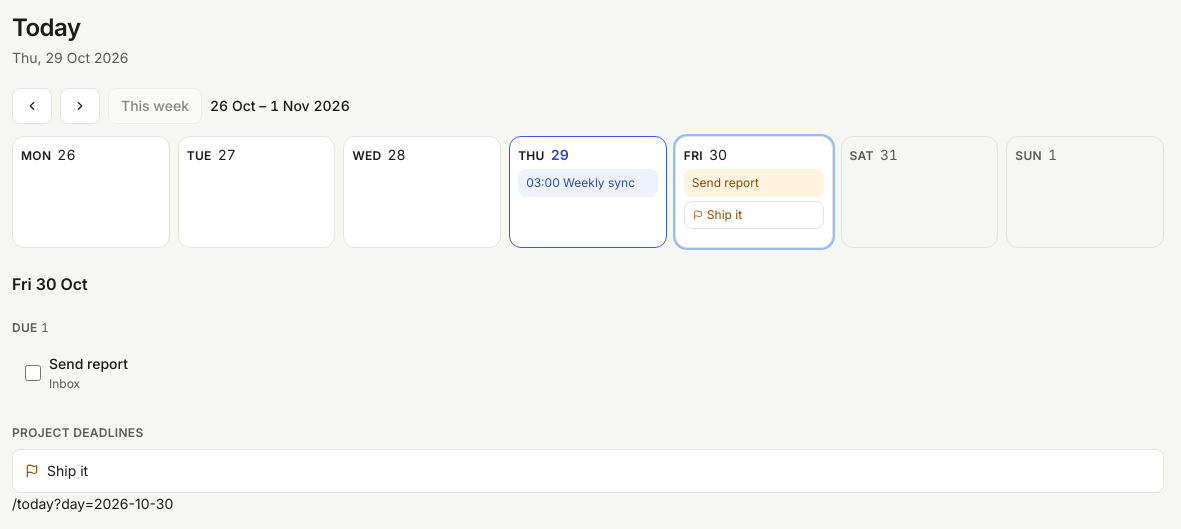
Test case: Today page week view › opening a task keeps the week and day in the URL
The image size is (1181, 529).
Click the button "Send report" next to "03:00 Weekly sync" at (754, 183), box [684,169,824,197]
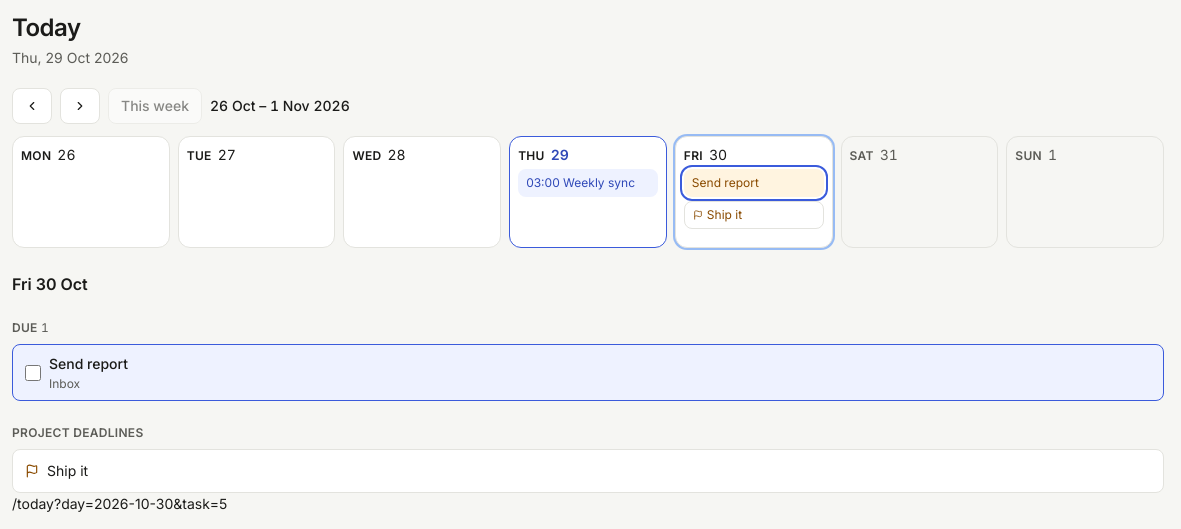
Expected: the text with test id "url" shows "day=2026-10-30", [12,495,227,512]
Expected: the text with test id "url" shows "task=5", [12,495,227,512]
